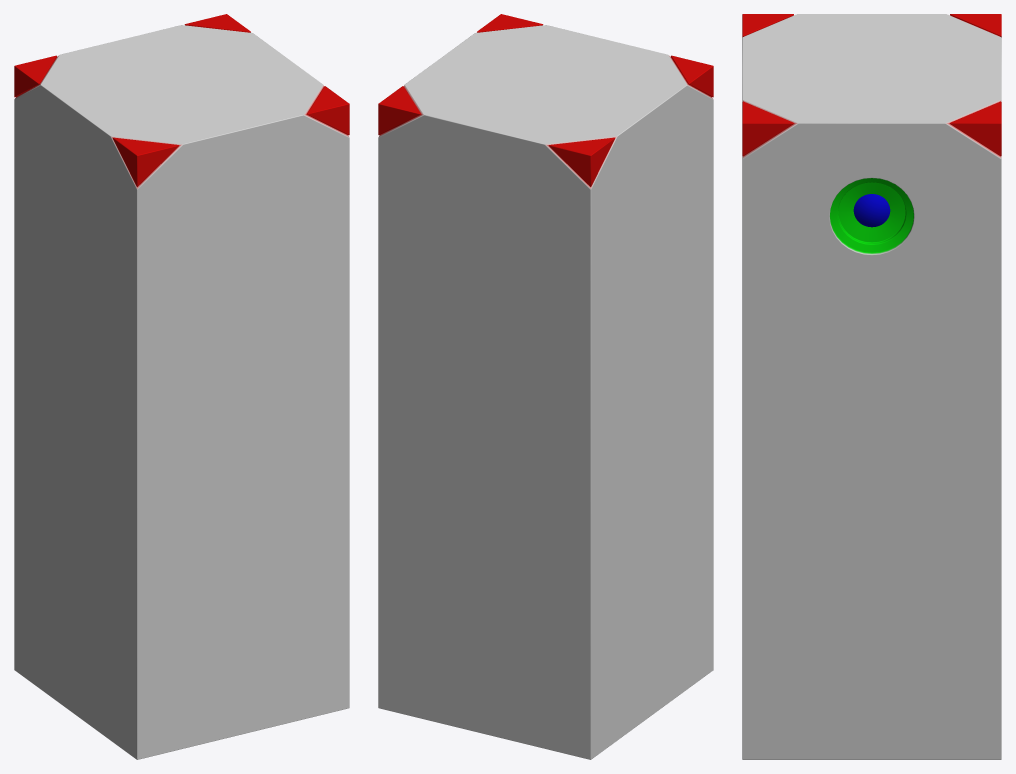
The model's file is monolith.fbx.
3 views of the same model, side by side, from view 1: azimuth 30°, elevation 25°; view 2: azimuth 150°, elevation 25°; view 3: azimuth 270°, elevation 25° (orthographic). The views are drawn at different scales.
Visible parts, largest first — view 1: Monolith; view 2: Monolith; view 3: Monolith.
Part boxes in pixels (x1,y1,x2,y2): Monolith: (14, 14, 349, 759); Monolith: (378, 14, 713, 759); Monolith: (742, 14, 1001, 759).
Size of the model in its own units: 401 by 1087 by 401.
